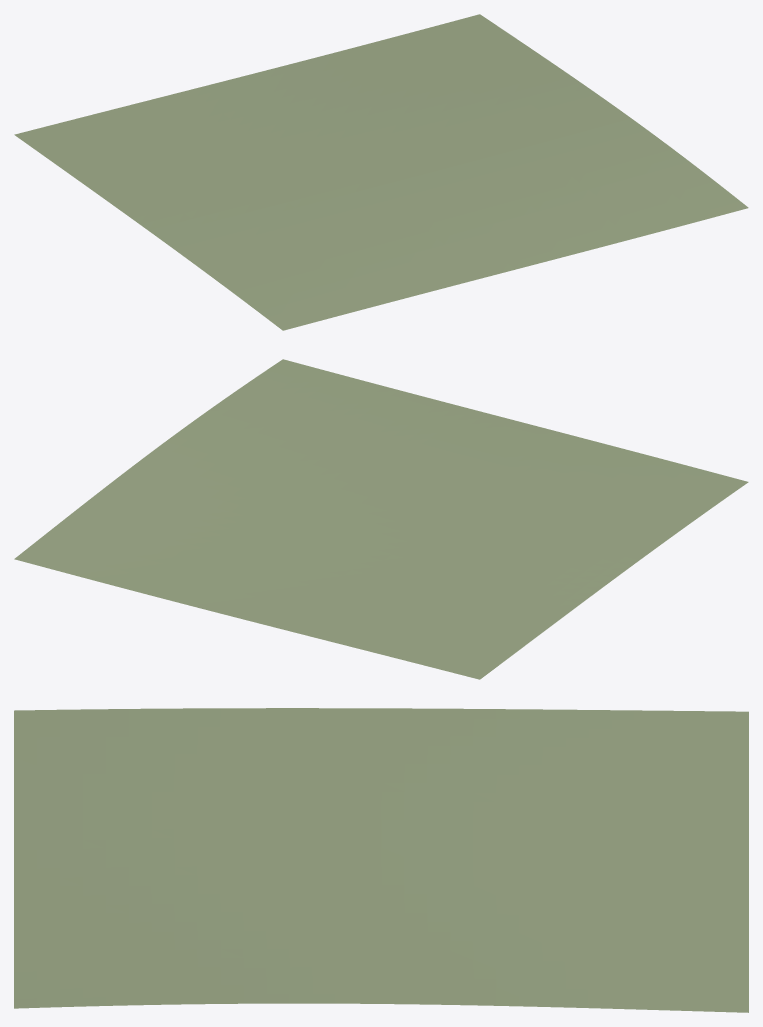
Rendered from desert-19-22.glb.
The picture shows the model from 3 angles, top to bottom: view 1: azimuth 30°, elevation 25°; view 2: azimuth 150°, elevation 25°; view 3: azimuth 270°, elevation 25°; orthographic projection. The views are drawn at different scales.
Parts seen in each view (by area): view 1: desert-19-22; view 2: desert-19-22; view 3: desert-19-22.
Part boxes in pixels (bbox=[...]): desert-19-22: bbox=[14, 14, 748, 330]; desert-19-22: bbox=[14, 359, 748, 679]; desert-19-22: bbox=[14, 708, 748, 1012].
Size of the model in its own units: 512 by 14.35 by 512.
